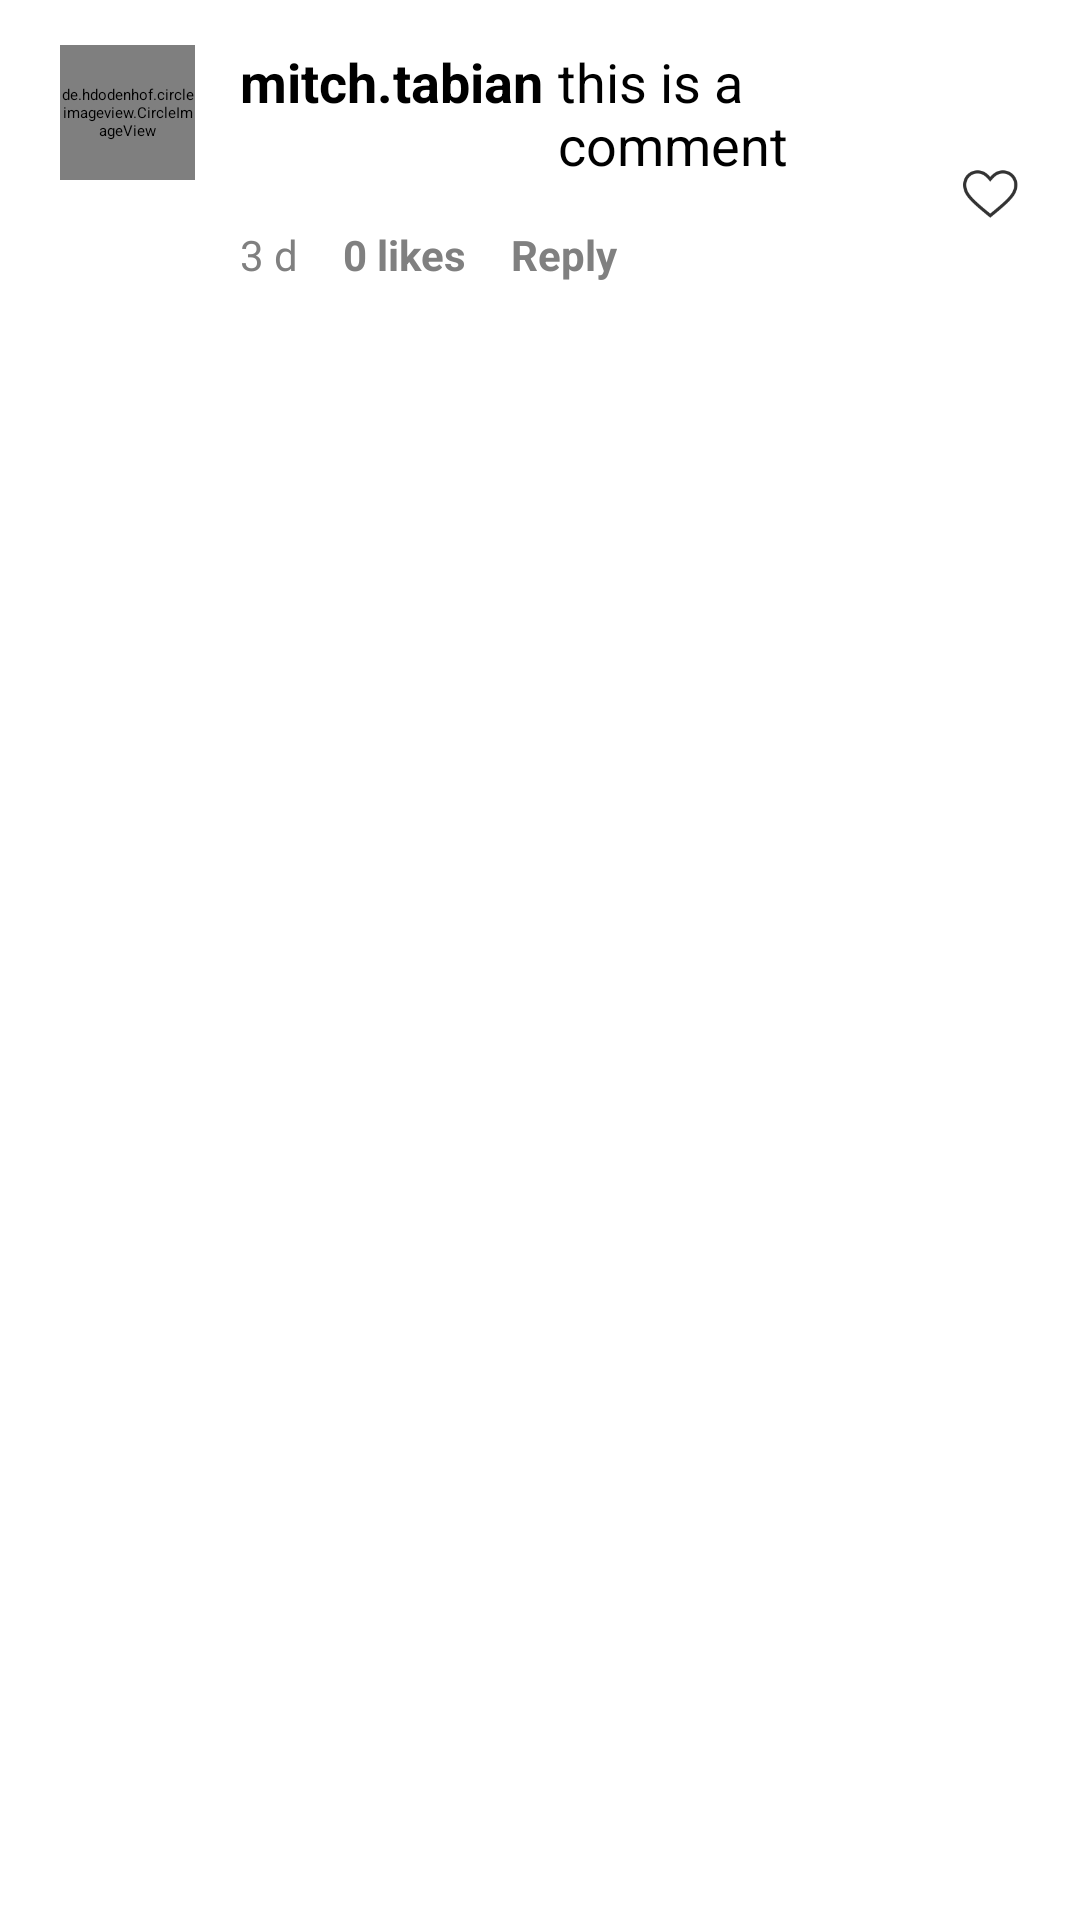

Where icons sit on this 1080x1920 app screen, as (x1, y1, x2, y2):
heart: (963, 170, 1018, 218)
